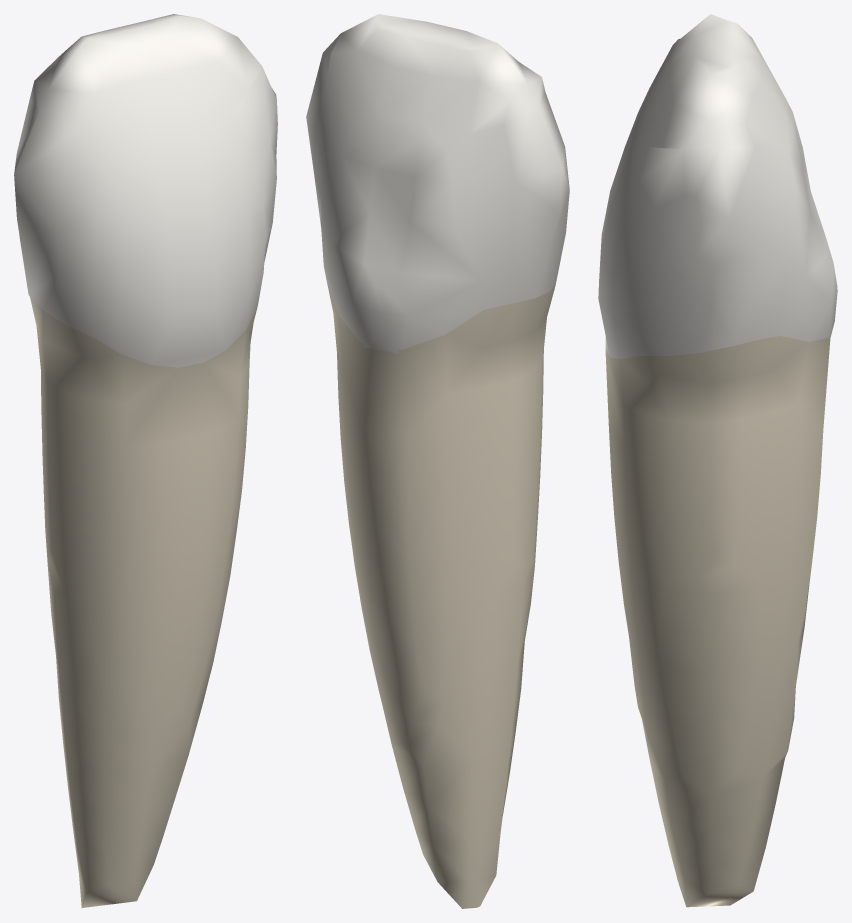
The picture shows the model from 3 angles, left to right: view 1: azimuth 30°, elevation 25°; view 2: azimuth 150°, elevation 25°; view 3: azimuth 270°, elevation 25°; orthographic projection. The views are drawn at different scales.
Parts seen in each view (by area): view 1: root, V, I, D, M; view 2: root, L, I, D, M; view 3: root, M, I, L, V.
Boxes of the visible parts, bbox=[...] form: root: bbox=[30, 297, 257, 908]; V: bbox=[92, 113, 265, 367]; I: bbox=[30, 14, 262, 141]; D: bbox=[14, 99, 109, 336]; M: bbox=[230, 66, 277, 261]; root: bbox=[326, 281, 555, 908]; L: bbox=[321, 105, 484, 353]; I: bbox=[323, 14, 545, 134]; D: bbox=[468, 92, 569, 309]; M: bbox=[306, 53, 345, 276]; root: bbox=[605, 336, 830, 907]; M: bbox=[629, 144, 786, 355]; I: bbox=[644, 14, 786, 148]; L: bbox=[776, 99, 837, 341]; V: bbox=[598, 88, 649, 358].
Size of the model in its own units: 5 by 16.26 by 3.98.
